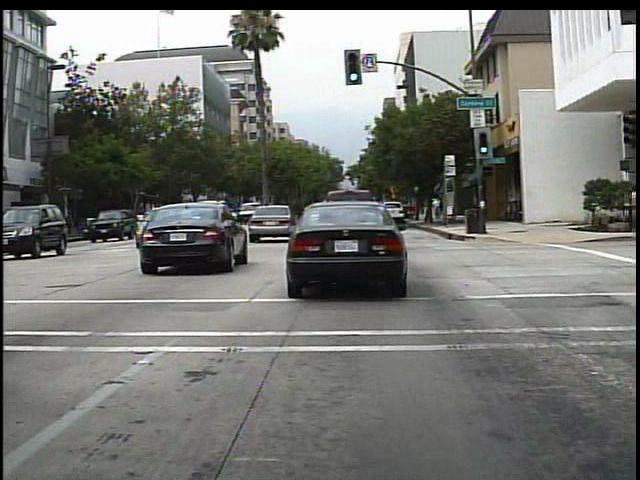person: (620, 181, 637, 249), (427, 191, 446, 225)
